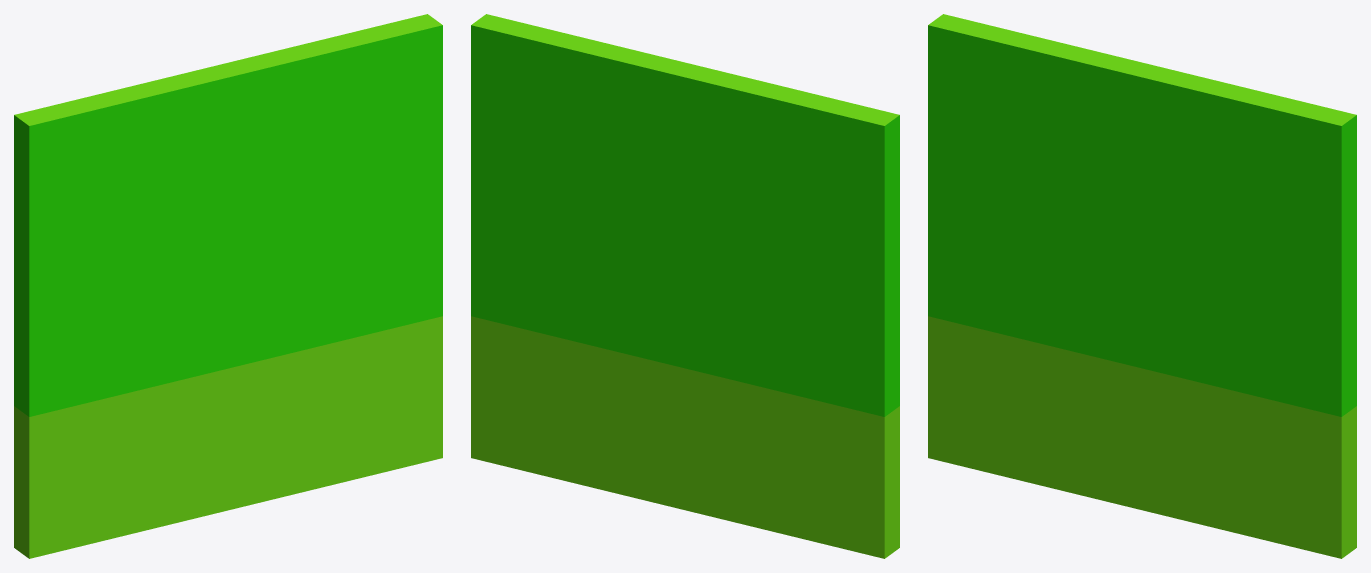
File: Wall-Section.fbx
The picture shows the model from 3 angles, left to right: view 1: azimuth 30°, elevation 25°; view 2: azimuth 150°, elevation 25°; view 3: azimuth 330°, elevation 25°; orthographic projection.
Parts seen in each view (by area): view 1: Wall-Section; view 2: Wall-Section; view 3: Wall-Section.
Boxes of the visible parts, left/top/right/bottom form: Wall-Section: left=14, top=14, right=442, bottom=558; Wall-Section: left=471, top=14, right=899, bottom=558; Wall-Section: left=928, top=14, right=1356, bottom=558.
Bounding box in the file's own units: 200 × 200 × 12.79.
